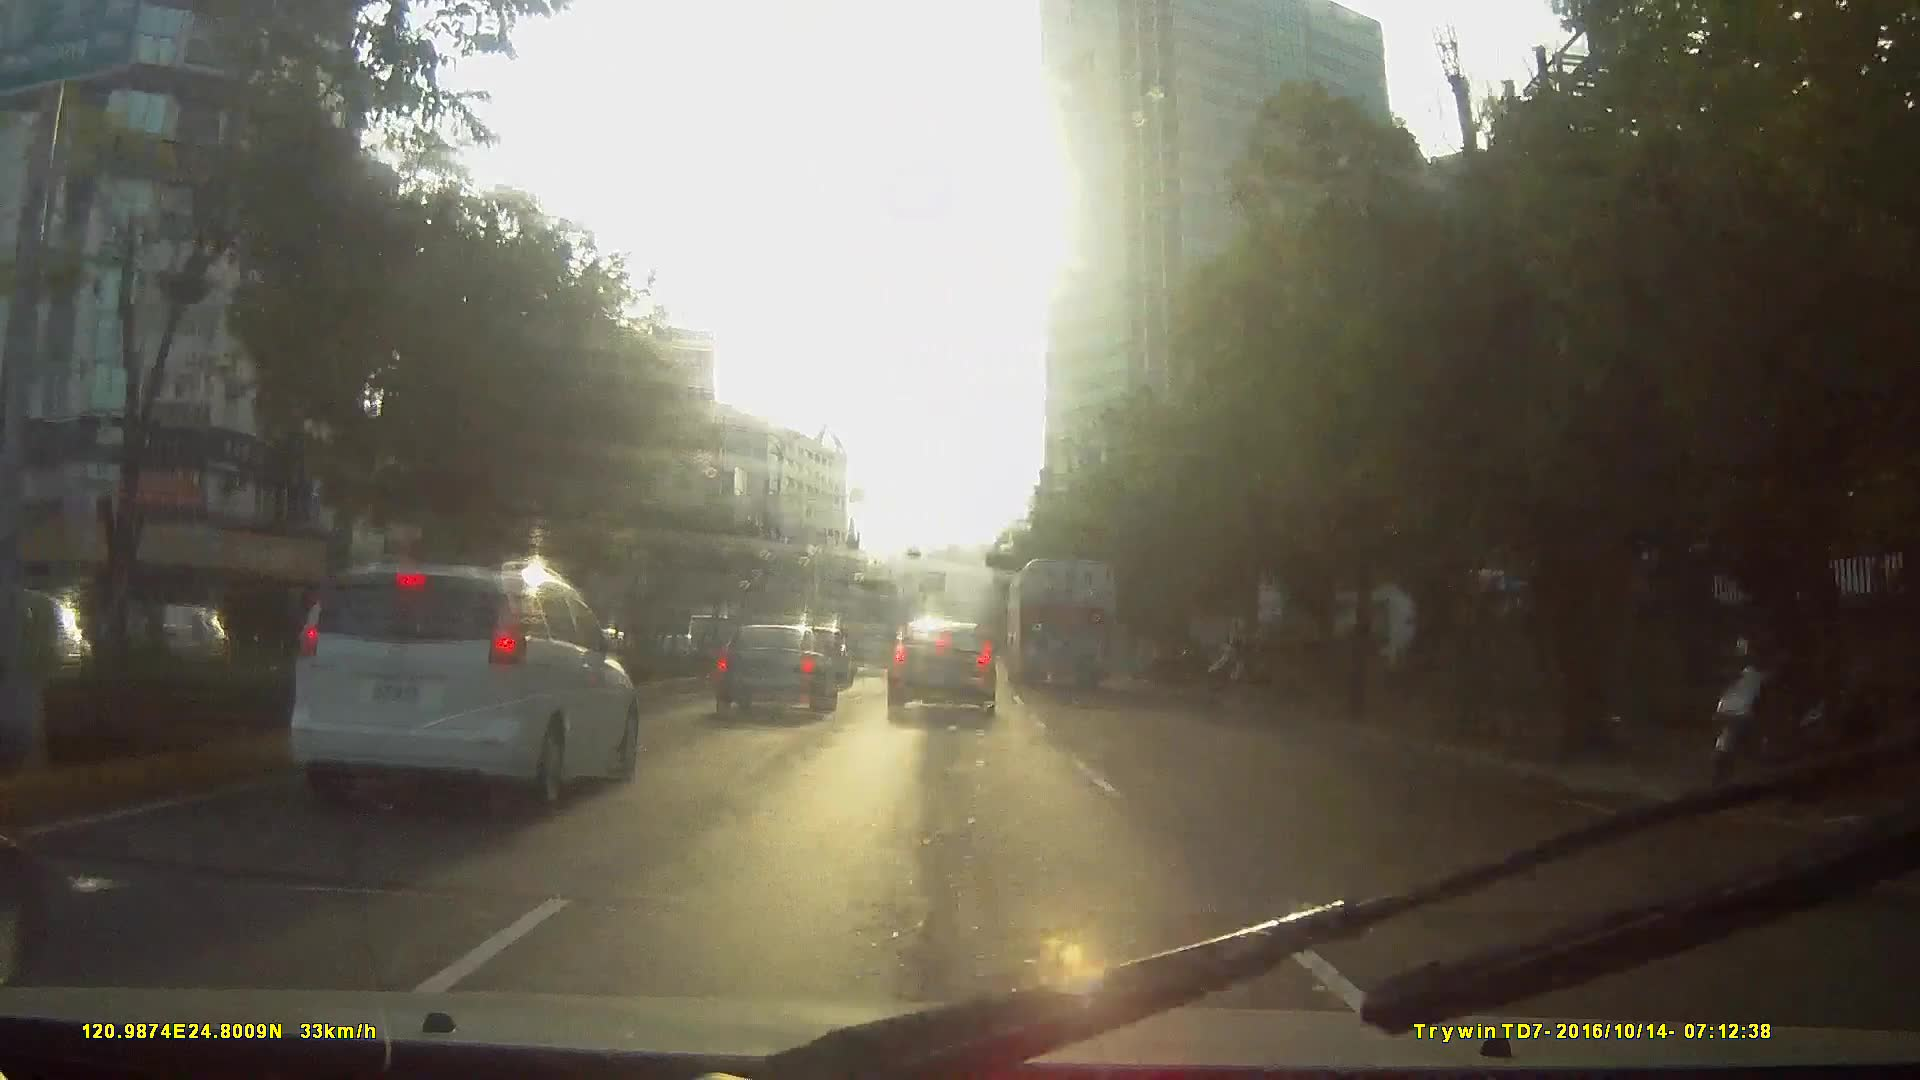vehicle: (251, 556, 684, 868), (272, 554, 649, 820), (1007, 551, 1118, 684), (711, 618, 839, 716), (887, 611, 998, 716), (848, 620, 899, 673)
